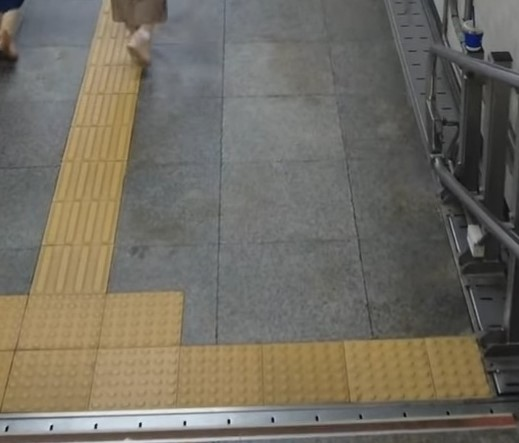guideBlock: (95, 10, 167, 53), (56, 155, 122, 199), (27, 248, 104, 284), (64, 126, 127, 170), (51, 205, 110, 245), (73, 90, 133, 127), (91, 41, 156, 70), (85, 69, 140, 94)
warningBlock: (177, 338, 266, 406), (346, 334, 437, 398), (88, 348, 179, 407), (4, 354, 93, 411), (265, 340, 350, 399), (18, 296, 101, 352), (425, 333, 489, 403), (105, 298, 175, 342)
